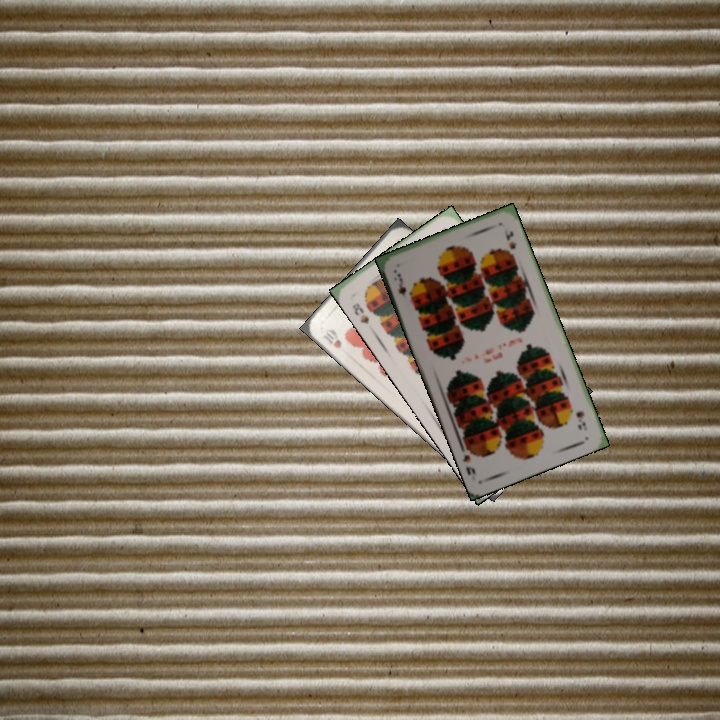H10: (318, 325, 344, 351)
S8: (348, 299, 372, 327)
S9: (393, 269, 409, 298), (572, 407, 588, 432)
